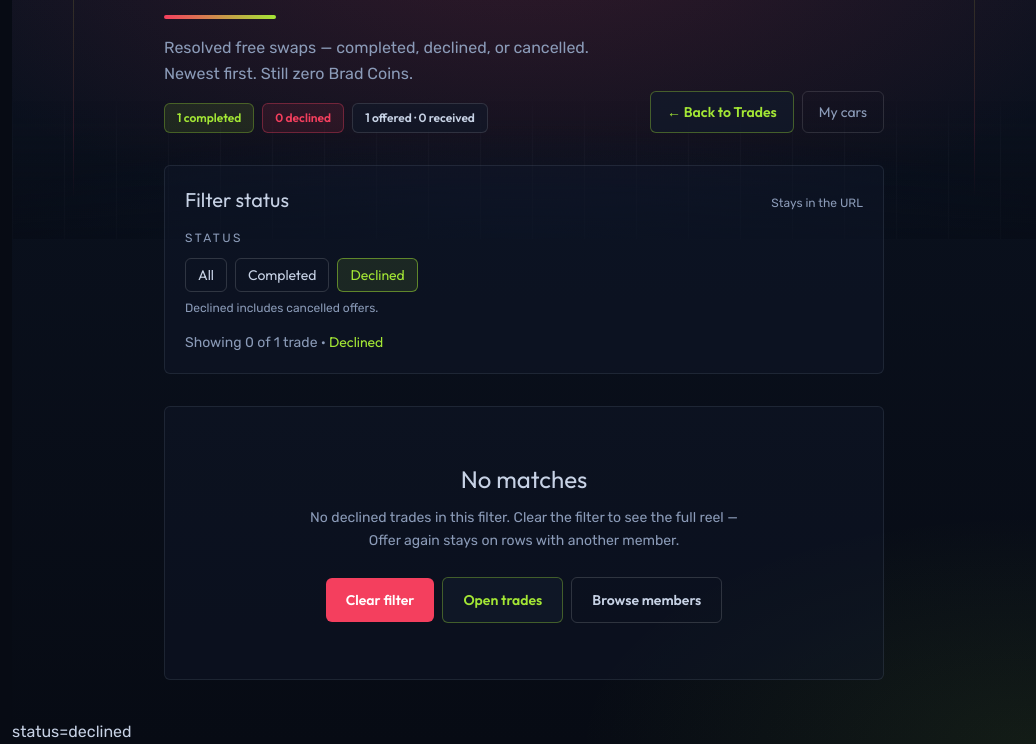
it: TradeHistoryPage Midnight Garage UI › shows No matches and Clear filter when Completed/Declined yields none
The width and height of the screenshot is (1036, 744).
(page scrolled)
Expected: the text "No matches" is shown, [461,464,587,494]
Expected: the message named "No matching trade history" is shown, [164,406,884,680]
Click the button "Clear filter" at (380, 600), box [326,578,434,622]
(page scrolled)
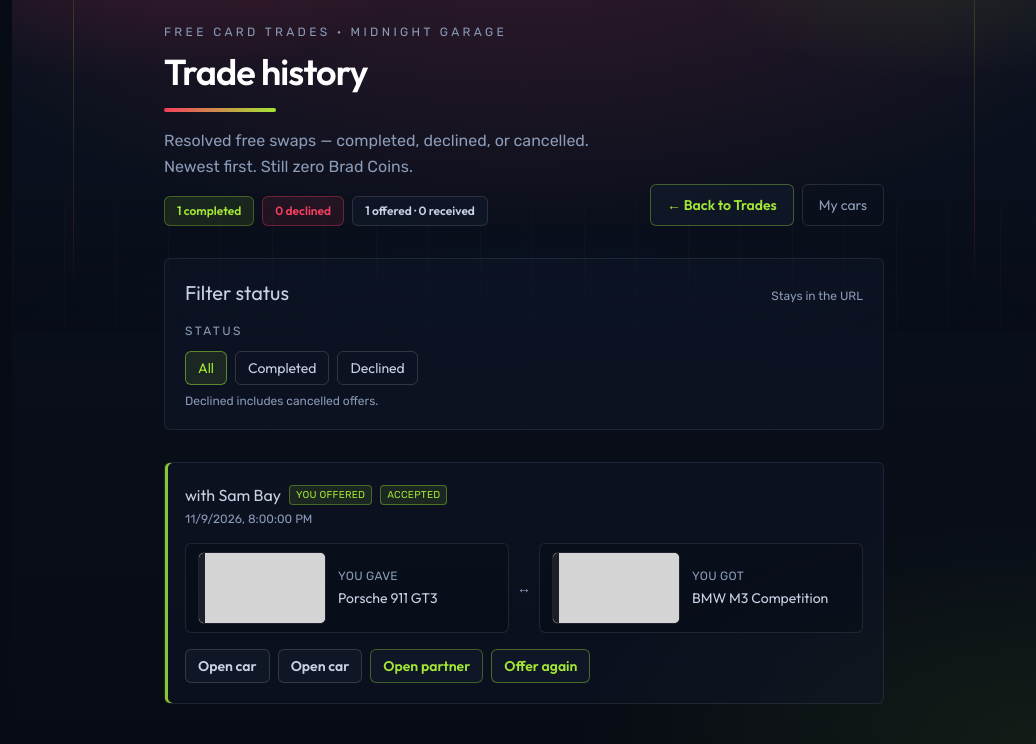
Expected: the link with aria-label "Offer again with Sam Bay" is shown, [491,649,590,683]
Expected: the text "with Sam Bay" is shown, [185,483,281,507]
Expected: the text "No matches" is gone
